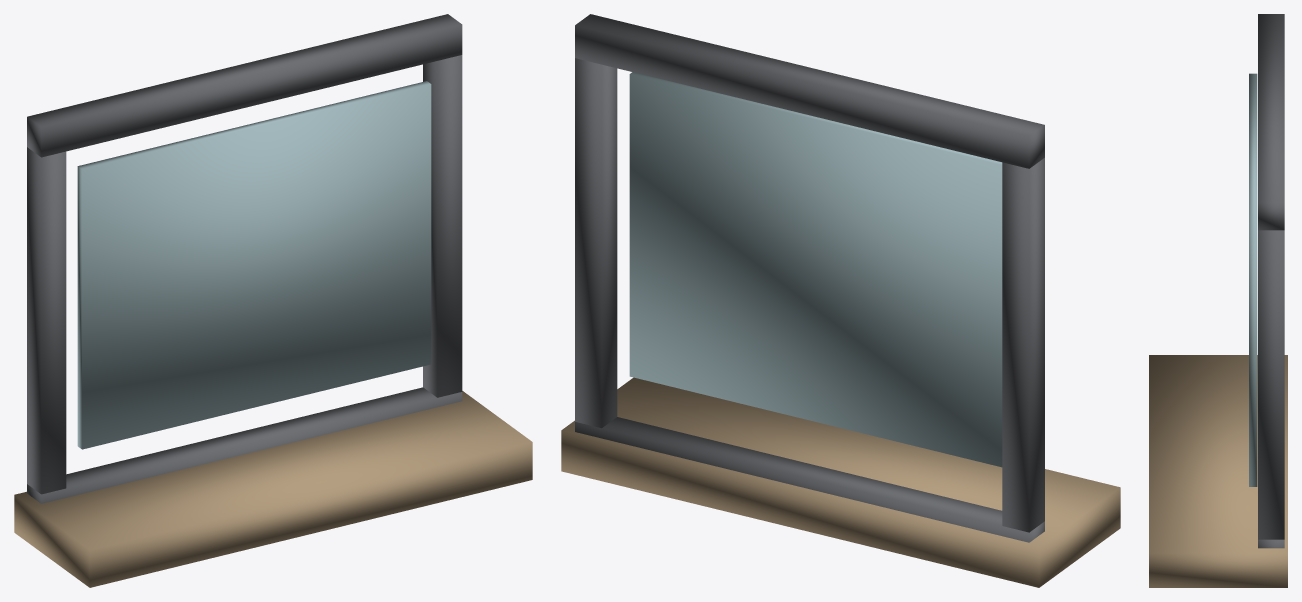
Rendered from service_window__tall.glb.
3 renders of one model, left to right at view 1: azimuth 30°, elevation 25°; view 2: azimuth 150°, elevation 25°; view 3: azimuth 270°, elevation 25°, orthographic. The views are drawn at different scales.
Parts seen in each view (by area): view 1: world; view 2: world; view 3: world.
Part boxes in pixels (x1,y1,x2,y2): world: [14, 14, 532, 587]; world: [561, 14, 1120, 587]; world: [1149, 14, 1287, 587].
Size of the model in its own units: 1.42 by 1.27 by 0.42.
